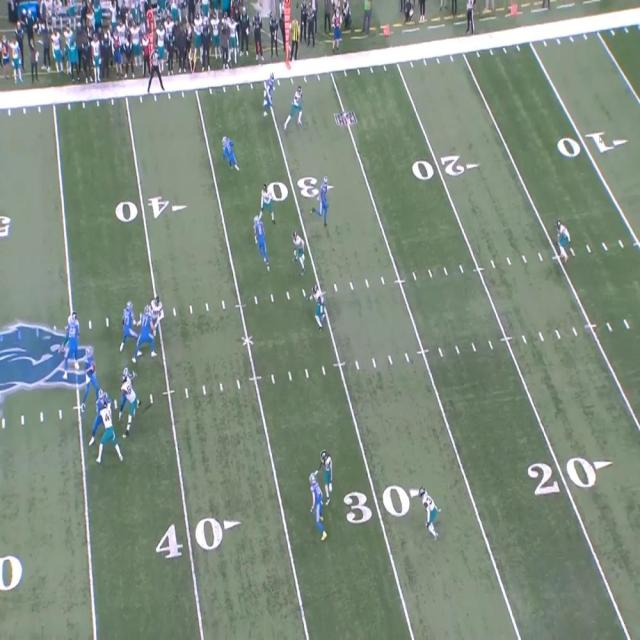center: (141, 307, 153, 353)
db: (122, 370, 138, 436), (311, 471, 325, 538), (324, 453, 335, 506), (265, 74, 277, 115)
lb: (289, 90, 302, 129), (504, 0, 518, 15), (485, 0, 498, 13)
rb: (421, 490, 438, 536)
s: (557, 221, 571, 261), (334, 7, 344, 50), (538, 0, 552, 9)
skill: (309, 474, 325, 534), (254, 213, 268, 268), (262, 74, 274, 118), (225, 135, 236, 170), (320, 177, 328, 225)
wr: (94, 393, 118, 465), (137, 302, 160, 359), (122, 301, 135, 352), (314, 284, 328, 330), (261, 182, 277, 222), (291, 232, 305, 274), (222, 137, 236, 171)
